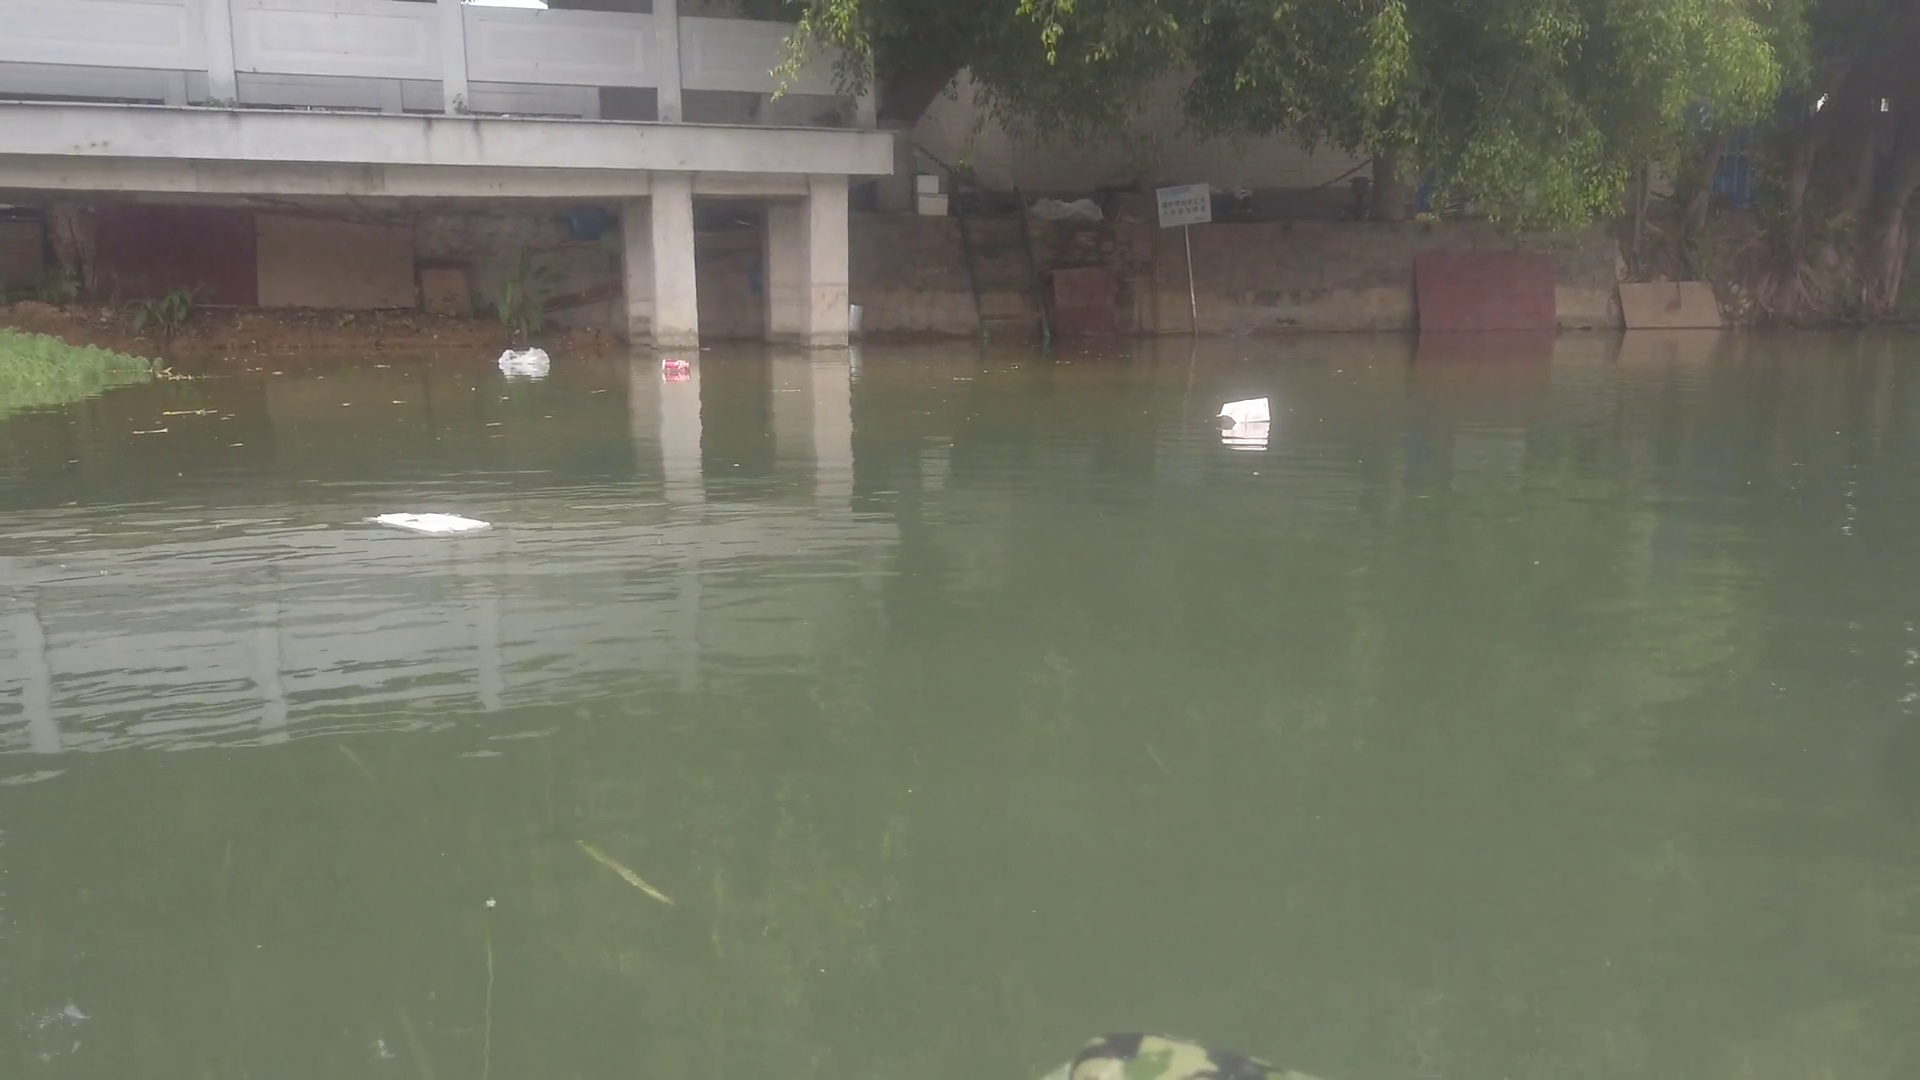bottle: (659, 356, 696, 378)
carton: (371, 512, 500, 538), (1209, 398, 1276, 429)
plastic: (496, 345, 553, 365)
